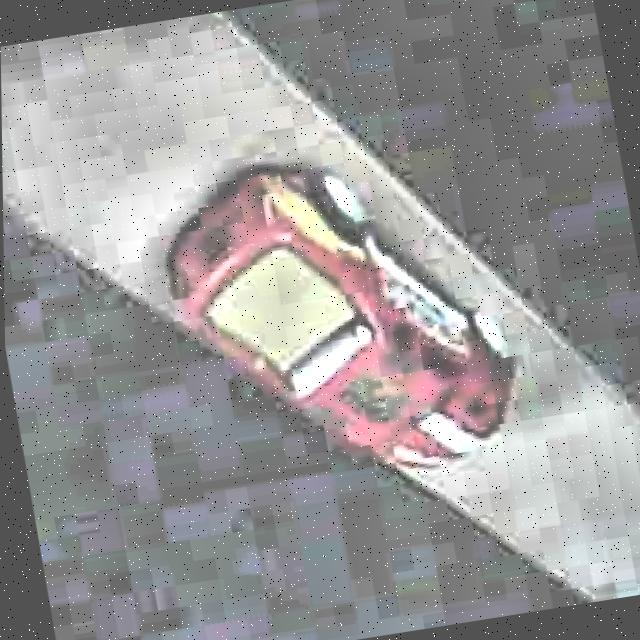car: (148, 128, 538, 510)
